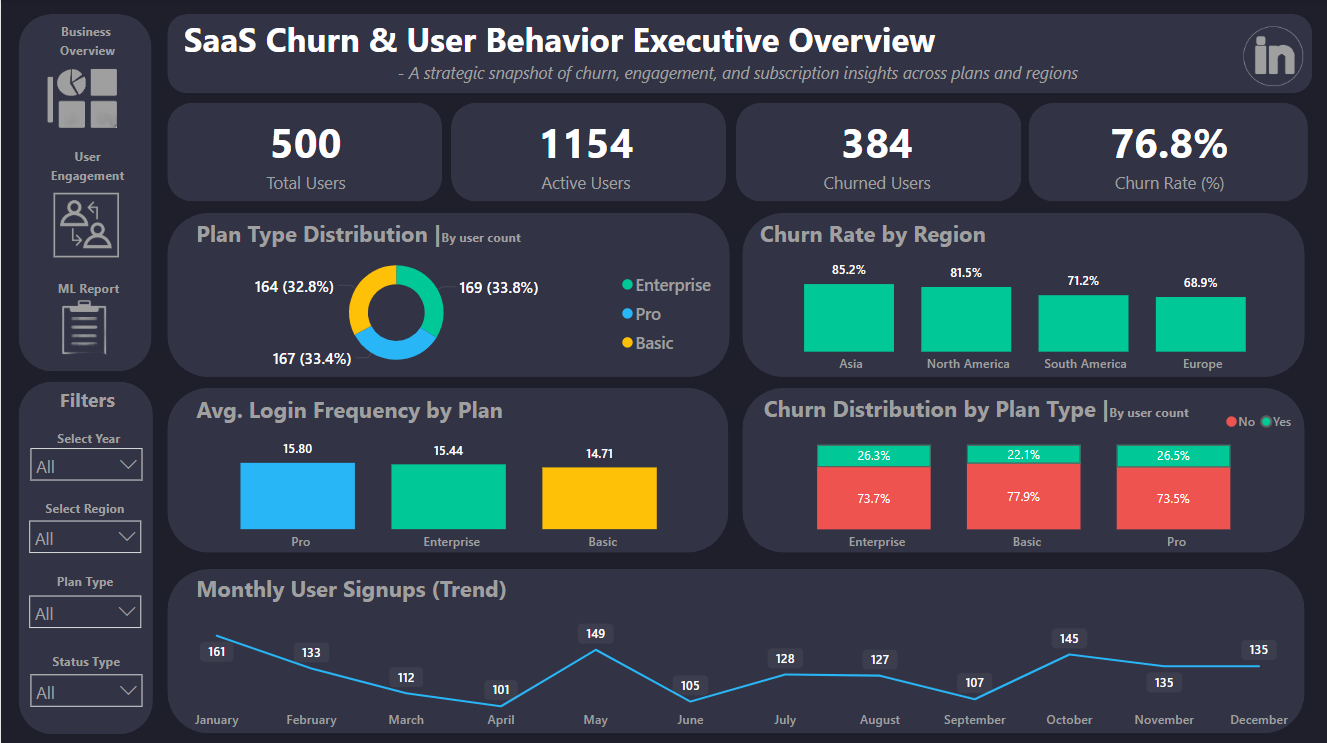

The dashboard page shown, as its layout file describes it:
{"tool":"powerbi","page":{"name":"Page 1","canvas":[1280,720],"ordinal":0},"visuals":[{"type":"shape","box":[160.1,14.4,1105.2,76.5],"z":0},{"type":"shape","box":[17.3,14.4,128.4,344.8],"z":1000},{"type":"shape","box":[17.3,369.3,129.8,340.5],"z":2000},{"type":"textbox","box":[160.1,11.5,1095.1,79.4],"z":3000},{"type":"shape","box":[709,99.6,275.6,95.2],"z":4000},{"type":"shape","box":[160.1,100,265.5,95.2],"z":5000},{"type":"shape","box":[434.3,99.6,265.5,95.2],"z":6000},{"type":"shape","box":[991.2,99.6,269.8,95.2],"z":7000},{"type":"card","fields":{"Values":["Data.Total Users"]},"box":[161.6,99.6,265.5,95.2],"z":8000},{"type":"shape","box":[160.1,206.3,543,158.7],"z":9000},{"type":"card","fields":{"Values":["Data.Active Users"]},"box":[431.4,99.6,265.5,95.2],"z":10000},{"type":"card","fields":{"Values":["Data.Churn Rate (%)"]},"box":[995.5,99.6,265.5,95.2],"z":11000},{"type":"card","fields":{"Values":["Data.Churned Users"]},"box":[709.8,99.6,272.7,95.2],"z":12000},{"type":"shape","box":[715.6,206.3,543,158.7],"z":13000},{"type":"shape","box":[161,375,541.7,159.3],"z":14000},{"type":"shape","box":[715.4,375.2,542.9,159.3],"z":15000},{"type":"shape","box":[160.1,549.7,1097.9,158.7],"z":16000},{"type":"donutChart","title":"Plan Type Distribution","fields":{"Category":["Data.plan_type"],"Y":["Count(Data.user_id)"]},"box":[160.1,239.5,539.6,125.5],"z":17000},{"type":"textbox","box":[183.2,206.3,519.4,43.3],"z":18000},{"type":"clusteredColumnChart","title":"Plan Type Distribution","fields":{"Category":["Data.region"],"Y":["Data.Churn Rate (%)"]},"box":[715.6,239.5,539.6,125.5],"z":19000},{"type":"textbox","box":[727.2,206.3,268.4,43],"z":20000},{"type":"clusteredColumnChart","title":"Plan Type Distribution","fields":{"Category":["Data.plan_type"],"Y":["Data.Avg. Logins"]},"box":[161.7,411.4,540.5,125.5],"z":21000},{"type":"textbox","box":[183.4,377.6,365.6,43.4],"z":22000},{"type":"hundredPercentStackedColumnChart","title":"Plan Type Distribution","fields":{"Category":["Data.plan_type"],"Series":["Data.churn"],"Y":["CountNonNull(Data.user_id)"]},"box":[715.6,388.1,539.6,148.6],"z":23000},{"type":"textbox","box":[731.5,376.6,505,47.6],"z":24000},{"type":"lineChart","title":"Plan Type Distribution","fields":{"Category":["Data.signup_date.Variation.Date Hierarchy.Month"],"Y":["CountNonNull(Data.user_id)"]},"box":[160.1,578.5,1095.1,129.8],"z":25000},{"type":"textbox","box":[183.2,549.7,505,47.6],"z":26000},{"type":"slicer","fields":{"Values":["Data.region"]},"box":[17,495,128.4,47.6],"z":27000},{"type":"textbox","box":[17.3,477,128.4,30.3],"z":28000},{"type":"textbox","box":[20.2,409,128.4,30.3],"z":29000},{"type":"slicer","fields":{"Values":["Data.signup_date.Variation.Date Hierarchy.Year"]},"box":[18,425,128.4,47.6],"z":30000},{"type":"textbox","box":[18,625,128.4,30.3],"z":31000},{"type":"slicer","fields":{"Values":["Data.User Status"]},"box":[18,643.5,128.4,47.6],"z":32000},{"type":"textbox","box":[17.3,548,128.4,30.3],"z":33000},{"type":"slicer","fields":{"Values":["Data.plan_type"]},"box":[17.3,567,128.4,47.6],"z":34000},{"type":"textbox","box":[20.2,369.3,125.5,40.4],"z":35000},{"type":"image","box":[44.7,280,77.9,75],"z":36000},{"type":"image","box":[49,63,67.8,66.4],"z":37000},{"type":"image","box":[50.5,187,63.5,62],"z":38000},{"type":"textbox","box":[18.8,17,128.4,51.9],"z":39000},{"type":"textbox","box":[19,138,128.4,51.9],"z":40000},{"type":"shape","box":[44.7,75,5.8,44.7],"z":41000}]}

Visuals, with their boxes in screenshot pixels (x1, y1, x2, y2), scaled from the page's 1280x720 canvas onto the 1327x743 screenshot:
shape: detection(166, 15, 1312, 94)
shape: detection(18, 15, 151, 371)
shape: detection(18, 381, 153, 732)
textbox: detection(166, 12, 1301, 94)
shape: detection(735, 103, 1021, 201)
shape: detection(166, 103, 441, 201)
shape: detection(450, 103, 725, 201)
shape: detection(1028, 103, 1307, 201)
card - Data.Total Users: detection(168, 103, 443, 201)
shape: detection(166, 213, 729, 377)
card - Data.Active Users: detection(447, 103, 722, 201)
card - Data.Churn Rate (%): detection(1032, 103, 1307, 201)
card - Data.Churned Users: detection(736, 103, 1019, 201)
shape: detection(742, 213, 1305, 377)
shape: detection(167, 387, 729, 551)
shape: detection(742, 387, 1305, 552)
shape: detection(166, 567, 1304, 731)
"Plan Type Distribution" donutChart: detection(166, 247, 725, 377)
textbox: detection(190, 213, 728, 258)
"Plan Type Distribution" clusteredColumnChart: detection(742, 247, 1301, 377)
textbox: detection(754, 213, 1032, 257)
"Plan Type Distribution" clusteredColumnChart: detection(168, 425, 728, 554)
textbox: detection(190, 390, 569, 434)
"Plan Type Distribution" hundredPercentStackedColumnChart: detection(742, 400, 1301, 554)
textbox: detection(758, 389, 1282, 438)
"Plan Type Distribution" lineChart: detection(166, 597, 1301, 731)
textbox: detection(190, 567, 713, 616)
slicer - Data.region: detection(18, 511, 151, 560)
textbox: detection(18, 492, 151, 524)
textbox: detection(21, 422, 154, 453)
slicer - Data.signup_date.Variation.Date Hierarchy.Year: detection(19, 439, 152, 488)
textbox: detection(19, 645, 152, 676)
slicer - Data.User Status: detection(19, 664, 152, 713)
textbox: detection(18, 566, 151, 597)
slicer - Data.plan_type: detection(18, 585, 151, 634)
textbox: detection(21, 381, 151, 423)
image: detection(46, 289, 127, 366)
image: detection(51, 65, 121, 134)
image: detection(52, 193, 118, 257)
textbox: detection(19, 18, 153, 71)
textbox: detection(20, 142, 153, 196)
shape: detection(46, 77, 52, 124)
